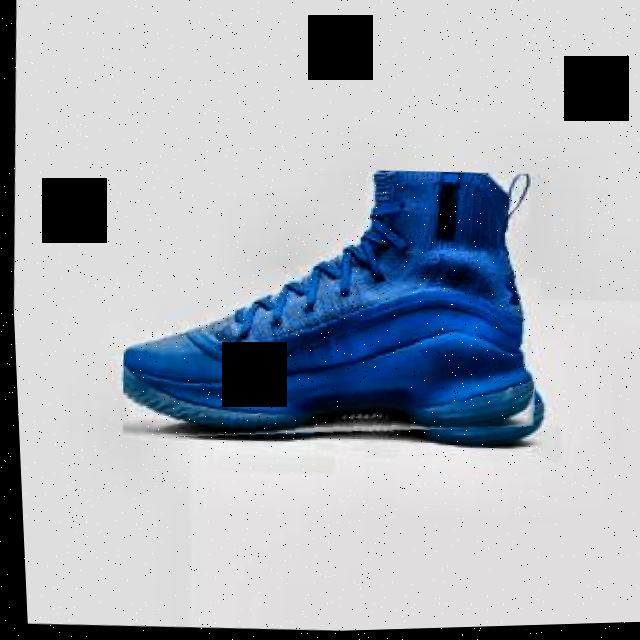shoe: (109, 155, 555, 462)
